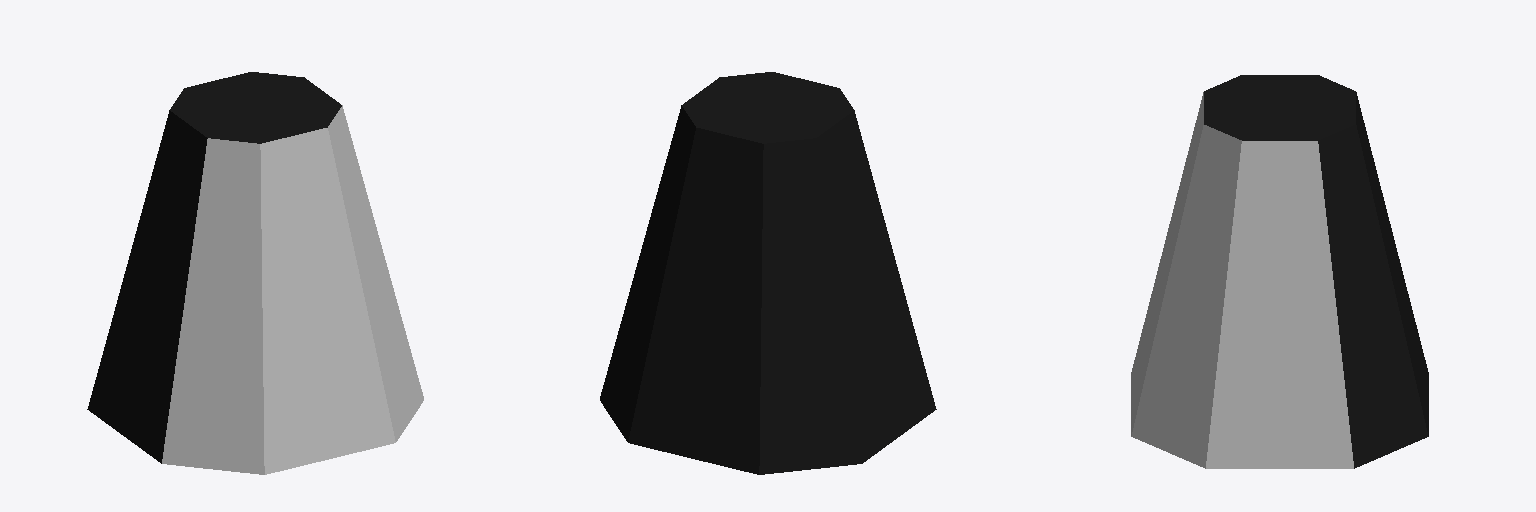
3 views of the same model, side by side, from view 1: azimuth 30°, elevation 25°; view 2: azimuth 150°, elevation 25°; view 3: azimuth 270°, elevation 25° (orthographic).
Parts seen in each view (by area): view 1: cube9; view 2: cube9; view 3: cube9.
Part boxes in pixels (left/top/right/bottom): cube9: left=87, top=72, right=423, bottom=474; cube9: left=600, top=72, right=936, bottom=474; cube9: left=1131, top=75, right=1428, bottom=468.
Bounding box in the file's own units: 62.71 × 67.81 × 61.43.
Materials: 2 (1 with a texture image).